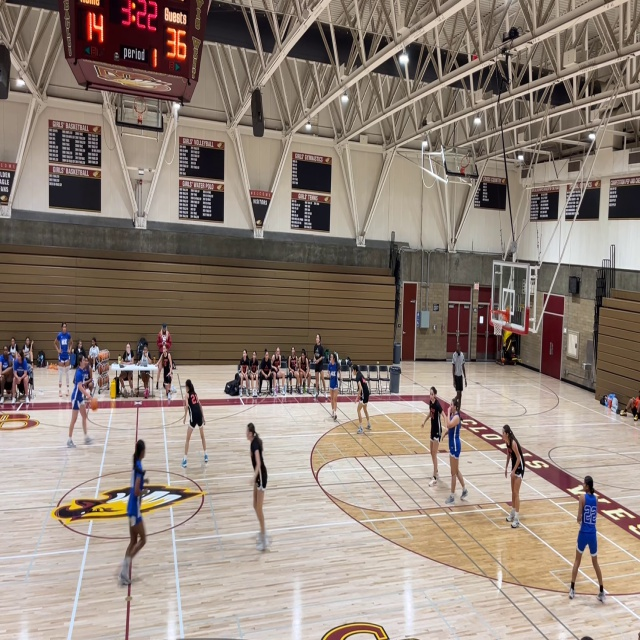Basketball: (88, 397, 98, 410)
